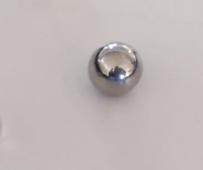steelball: (84, 38, 143, 99)
